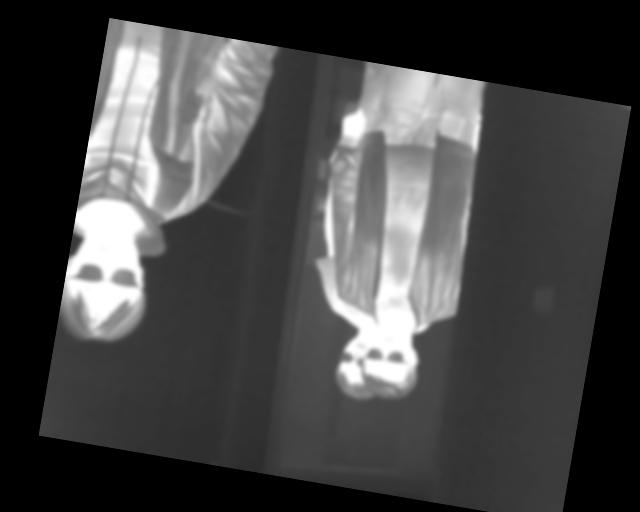face: (55, 216, 157, 352), (357, 318, 423, 402), (331, 330, 379, 401)
